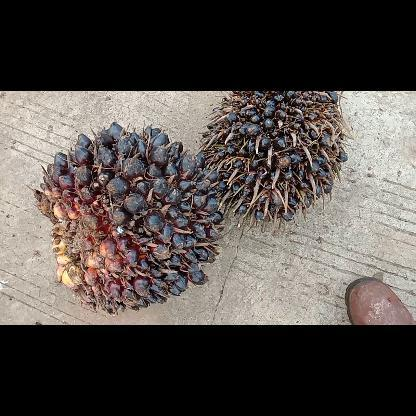TBS mentah: (31, 122, 225, 316), (198, 90, 356, 226)
